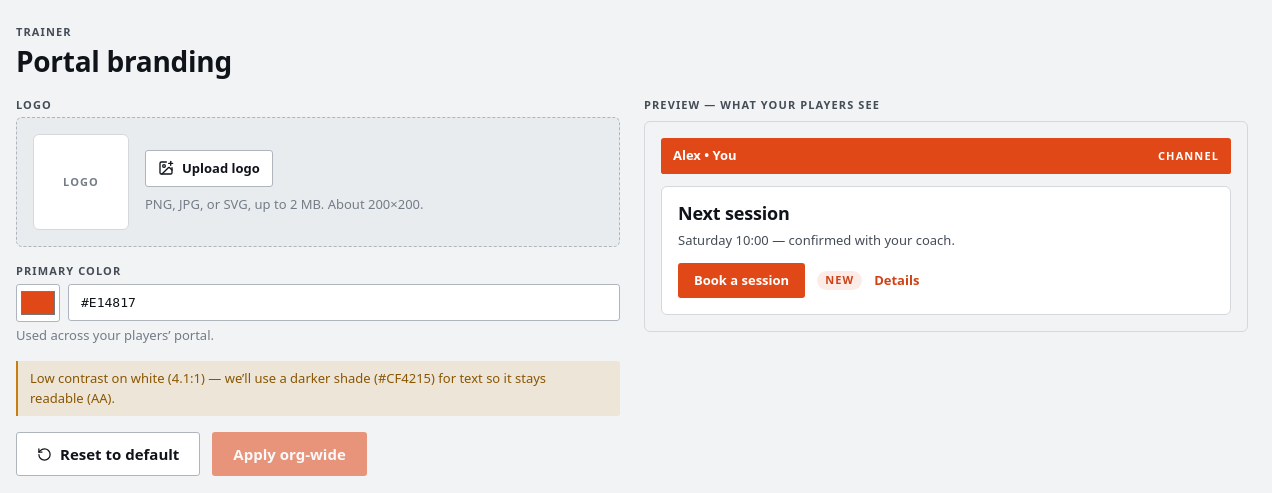
BrandingSettings (FR-037) › shows a contrast read-out for a valid color and applies it org-wide
Replace the text in the field labelled "Primary color" with "#1A73E8": (344, 303) [68,284,620,321]
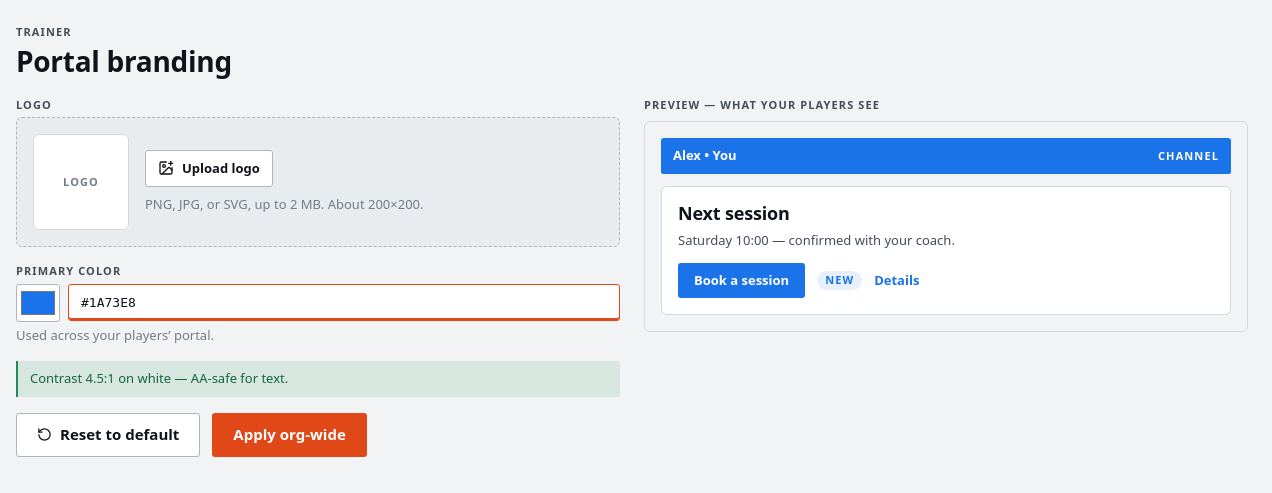
Result: the text "Contrast 4.5:1 on white — AA-safe for text." is shown at [16,361,620,397]
Click the button "Apply org-wide": (290, 435) [212,413,367,457]
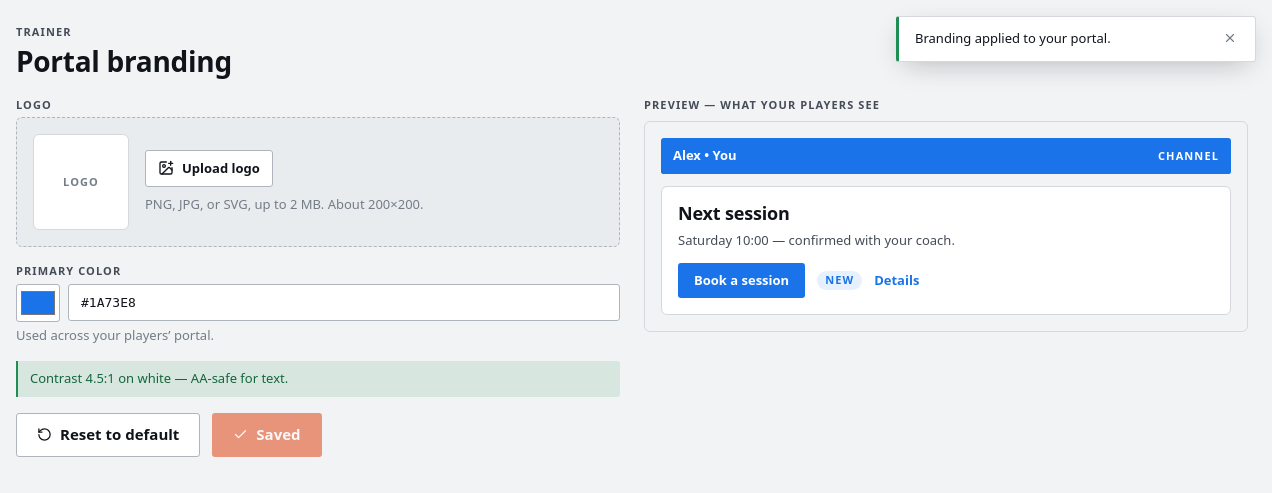
Result: the text "Branding applied to your portal." is shown at [915,29,1111,47]
Result: the button "Saved" is shown at [212,413,322,457]
